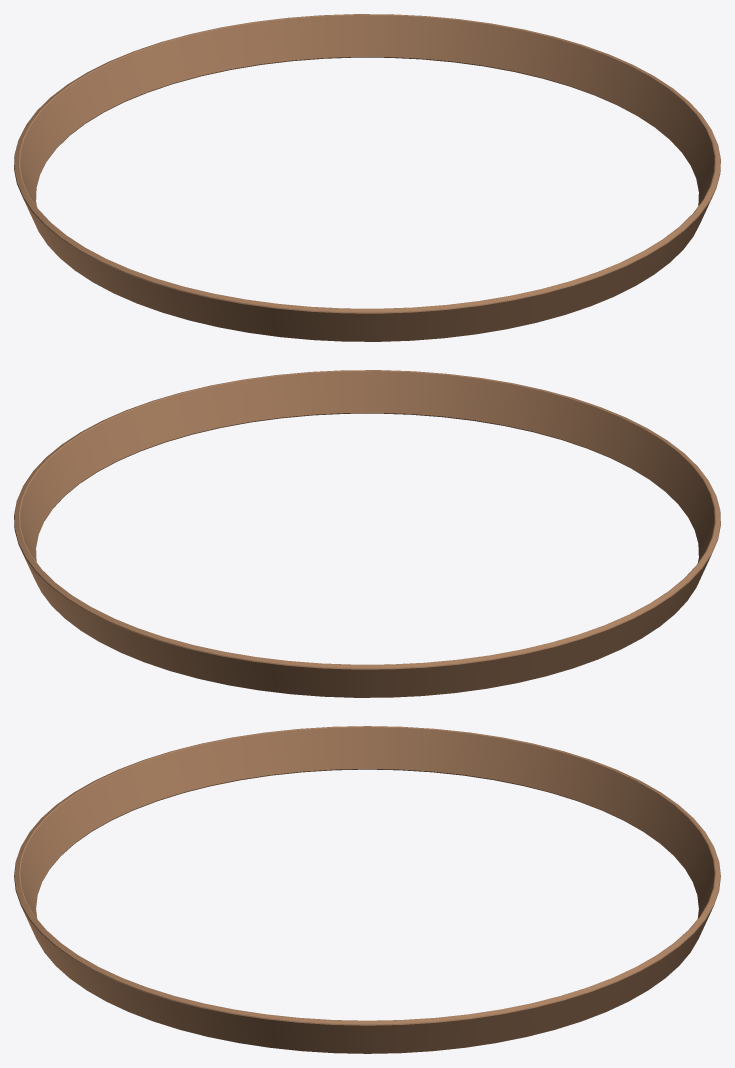
The model's file is SM_TongQuan3.fbx.
The picture shows the model from 3 angles, top to bottom: view 1: azimuth 30°, elevation 25°; view 2: azimuth 150°, elevation 25°; view 3: azimuth 270°, elevation 25°; orthographic projection.
Visible parts, largest first — view 1: SM_tongquan1; view 2: SM_tongquan1; view 3: SM_tongquan1.
Boxes of the visible parts, box(x1,y1,x2,y2) form: SM_tongquan1: box(14, 14, 720, 341); SM_tongquan1: box(14, 370, 720, 697); SM_tongquan1: box(14, 726, 720, 1053).
Size of the model in its own units: 2.83 by 0.1685 by 2.83.
